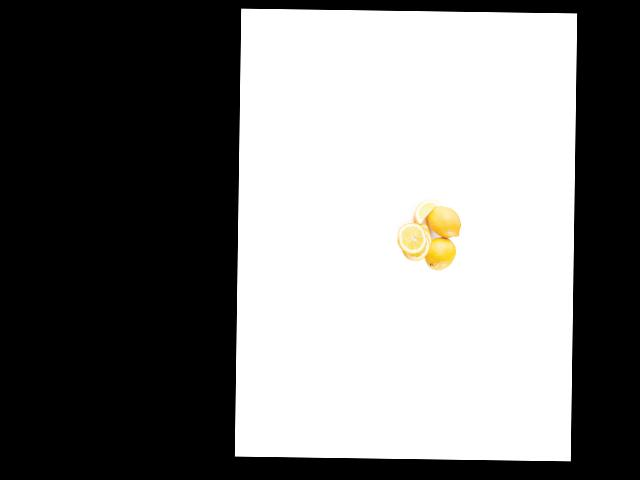lemon: (426, 233, 456, 269)
